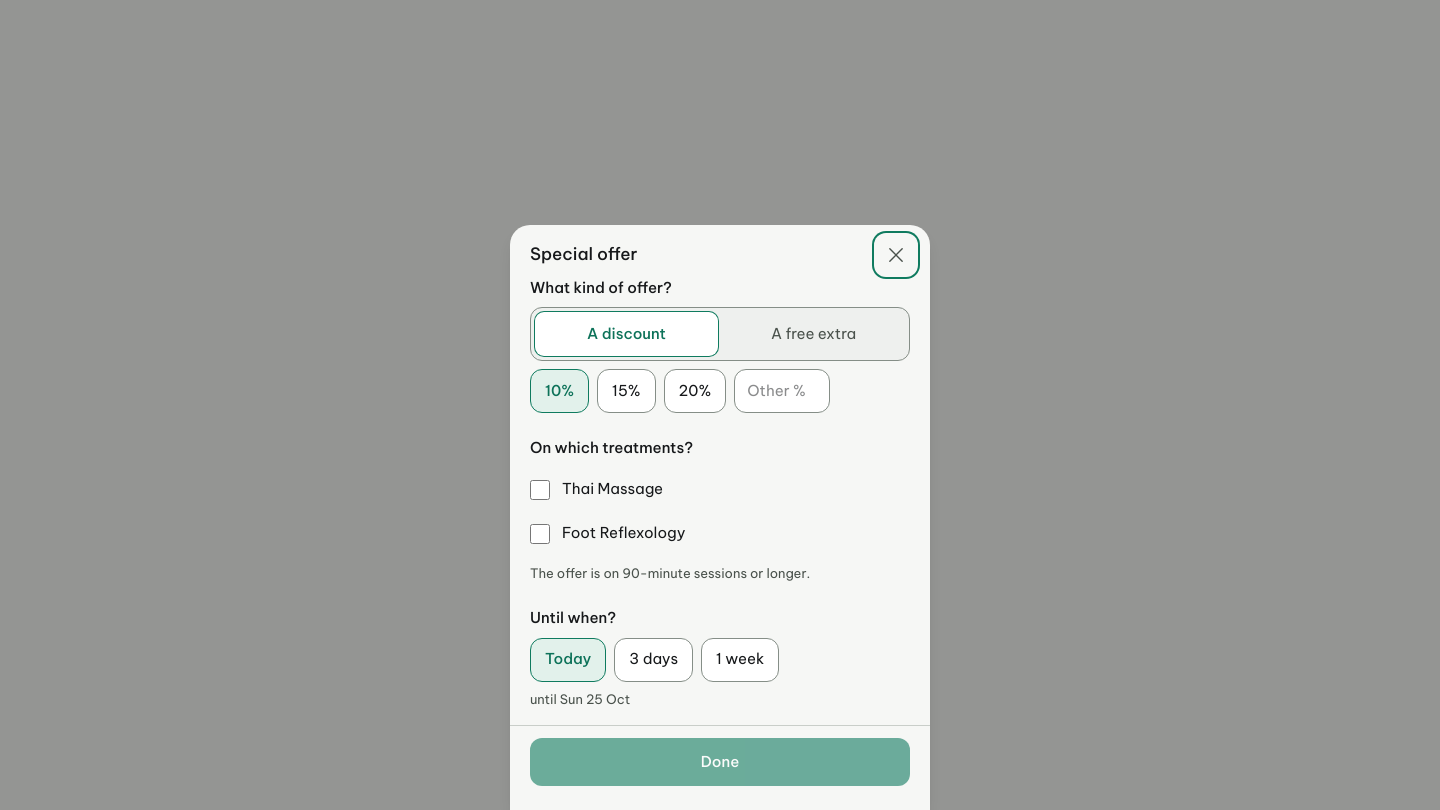
Test: the offer sheet › the gift is greyed and unticked in the list
Click the checkbox labelled "Foot Reflexology" at (540, 534), box [530,524,550,544]
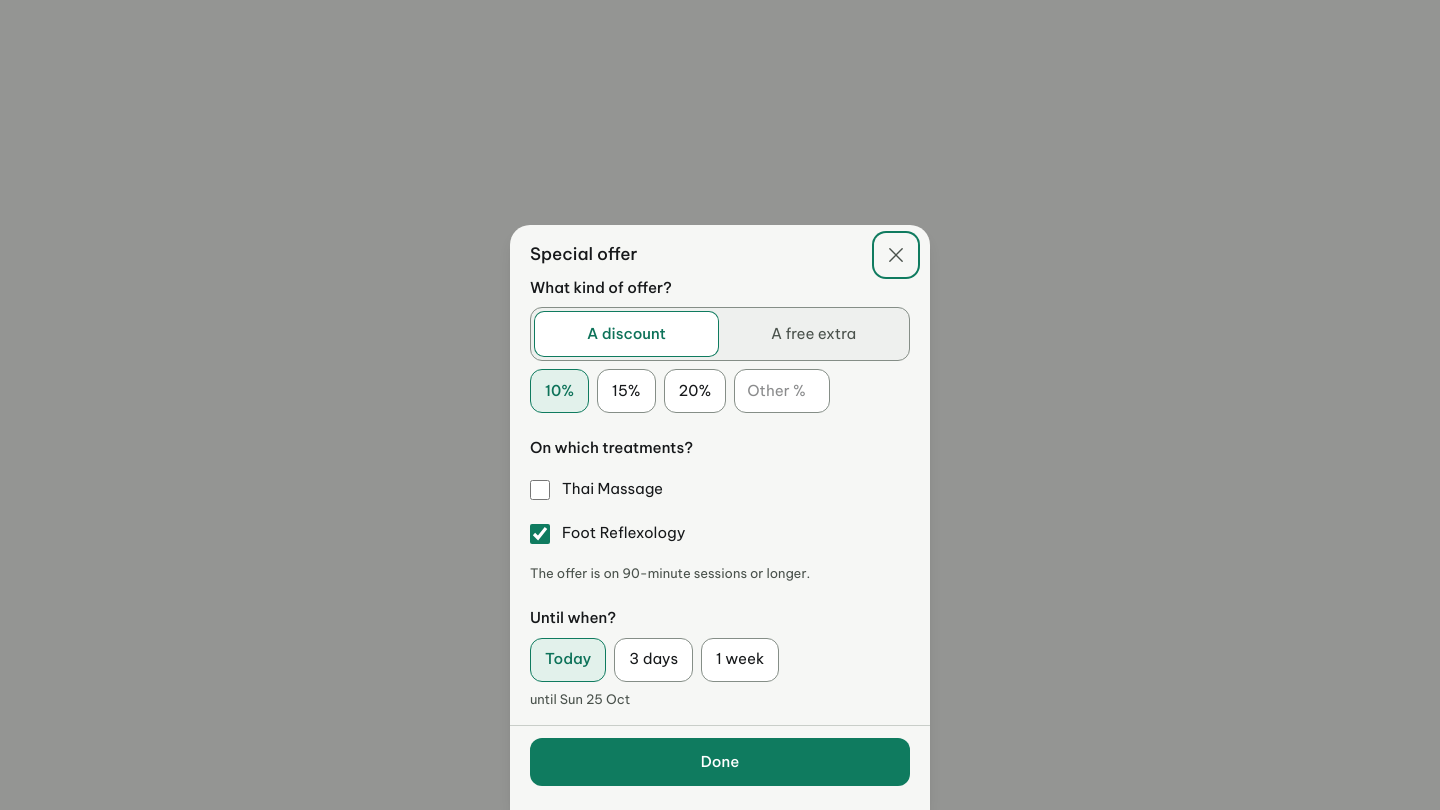
Click the radio button labelled "A free extra" at (814, 334), box [722,312,905,356]
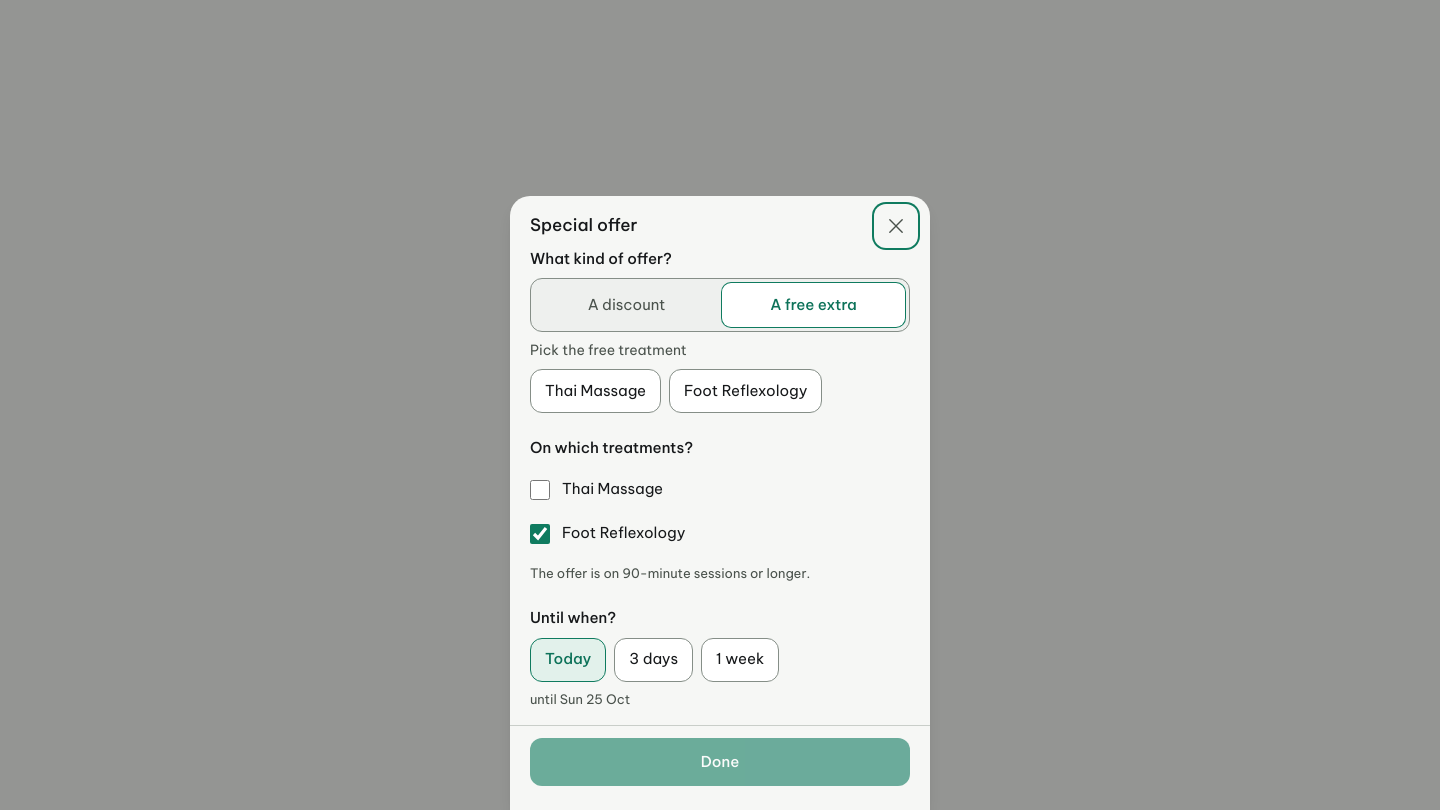
Click the button "Foot Reflexology" at (746, 391), box [669,369,822,413]
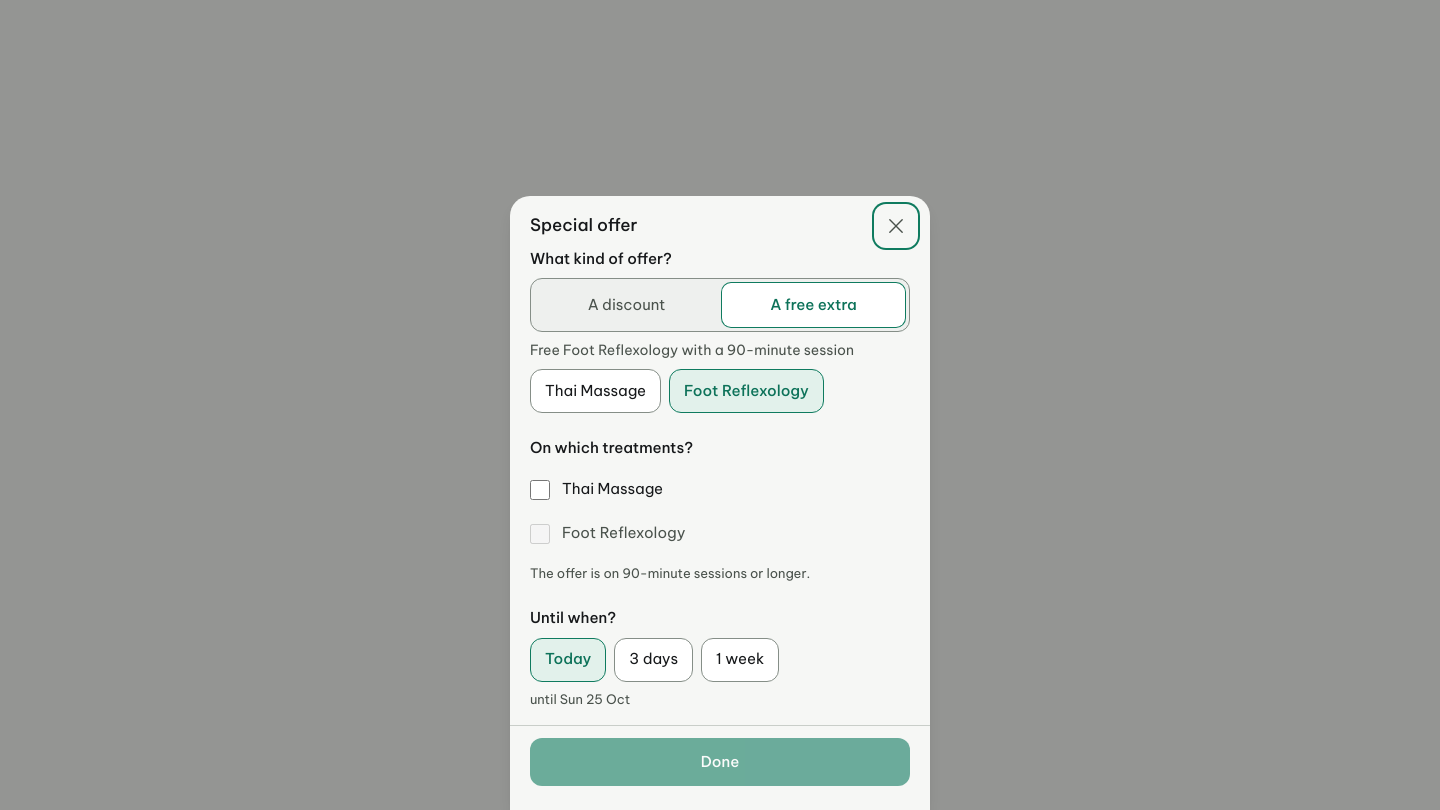
Check: the checkbox labelled "Foot Reflexology" is not checked, box [530,524,550,544]
Check: the checkbox labelled "Foot Reflexology" is disabled, box [530,524,550,544]
